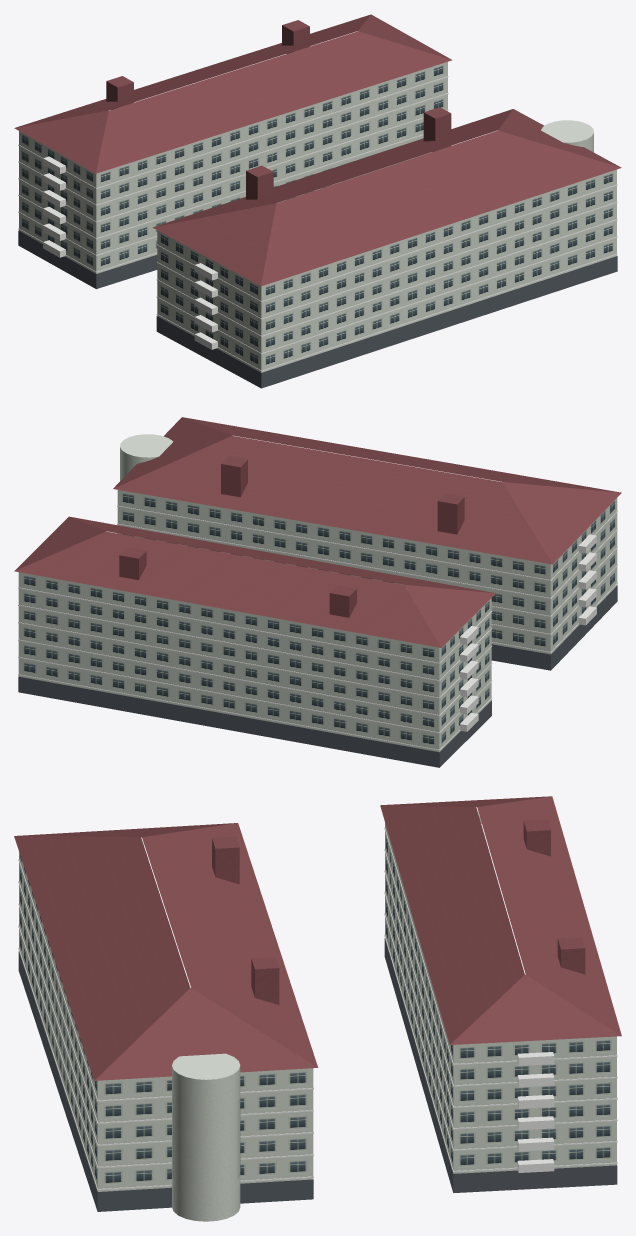
File: dorm_qinyuan_d4.glb
3 renders of one model, top to bottom at view 1: azimuth 30°, elevation 25°; view 2: azimuth 150°, elevation 25°; view 3: azimuth 270°, elevation 25°, orthographic. The views are drawn at different scales.
Visible parts, largest first — view 1: 862959357, 862959356; view 2: 862959356, 862959357; view 3: 862959357, 862959356.
Boxes of the visible parts, left/top/right/bottom form: 862959357: left=152, top=107, right=621, bottom=388; 862959356: left=14, top=14, right=452, bottom=289; 862959356: left=14, top=516, right=495, bottom=767; 862959357: left=113, top=417, right=621, bottom=670; 862959357: left=14, top=823, right=318, bottom=1221; 862959356: left=380, top=796, right=621, bottom=1192.
Bounding box in the file's own units: 79.98 × 24.84 × 74.6.
Materials: 3 (2 with a texture image).
